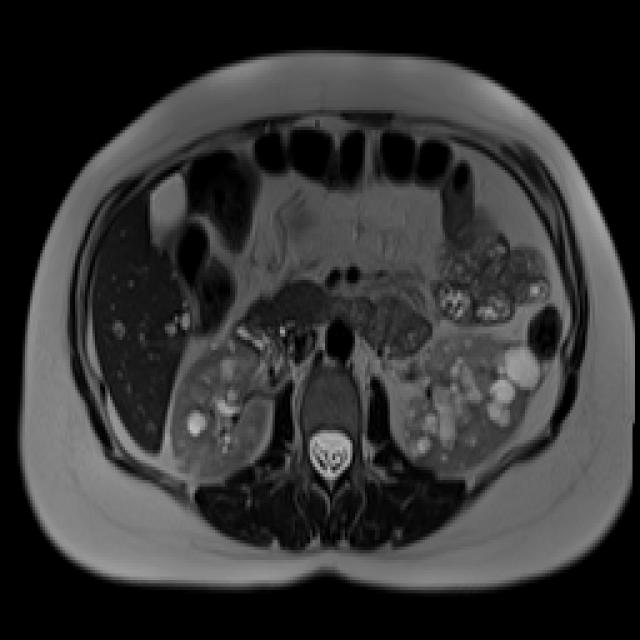sag: (169, 334, 272, 478)
sol: (403, 329, 543, 475)
